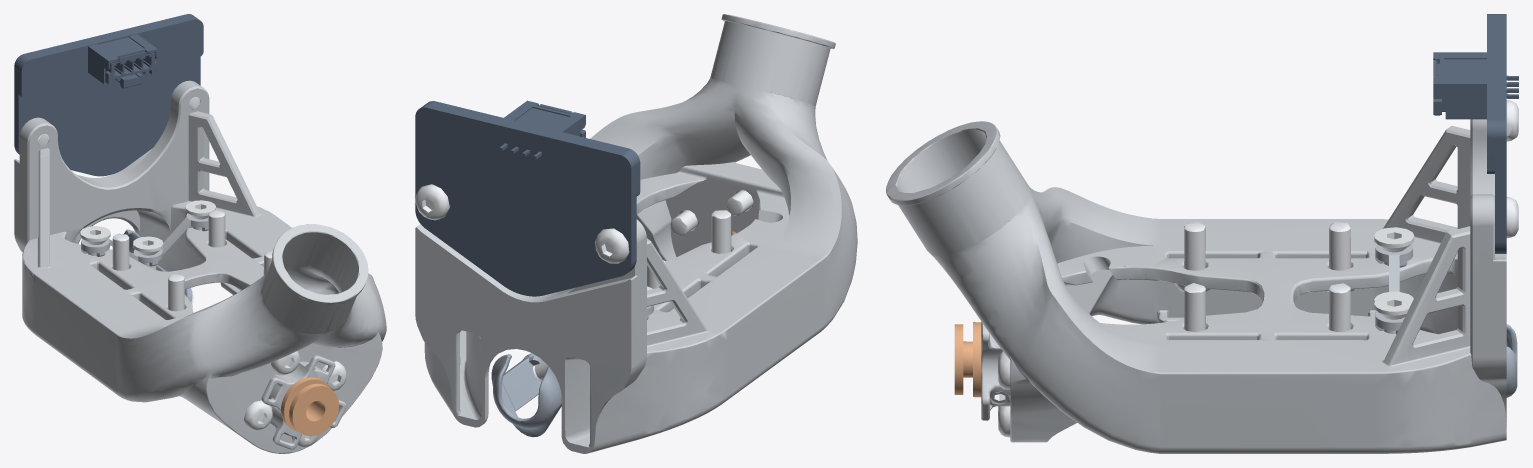
The picture shows the model from 3 angles, left to right: view 1: azimuth 30°, elevation 25°; view 2: azimuth 150°, elevation 25°; view 3: azimuth 270°, elevation 25°; orthographic projection. The views are drawn at different scales.
Parts seen in each view (by area): view 1: mbt_slm_chassis, beacon_probe, ecas_fitting, hotend_brace, fastener_16, fastener_7, fastener_6, fastener_5, fastener_11, fastener_13, fastener_12, fastener_15 (+1 smaller); view 2: mbt_slm_chassis, beacon_probe, mbt_shield, fastener_2, fastener_3, fastener_5, fastener_18, fastener_15; view 3: mbt_slm_chassis, beacon_probe, ecas_fitting, hotend_brace, fastener_5, fastener_7, fastener_6, fastener_4, fastener_13, fastener_12, mbt_shield.
Boxes of the visible parts, <box> form: mbt_slm_chassis: <box>14,80,386,453</box>; beacon_probe: <box>14,14,203,176</box>; ecas_fitting: <box>281,377,338,436</box>; hotend_brace: <box>81,213,208,266</box>; fastener_16: <box>244,400,272,430</box>; fastener_7: <box>112,233,129,270</box>; fastener_6: <box>208,210,225,247</box>; fastener_5: <box>168,274,184,311</box>; fastener_11: <box>133,236,163,269</box>; fastener_13: <box>80,226,110,255</box>; fastener_12: <box>185,200,215,230</box>; fastener_15: <box>271,351,299,374</box>; mbt_slm_chassis: <box>415,14,857,453</box>; beacon_probe: <box>415,100,640,296</box>; mbt_shield: <box>491,353,561,437</box>; fastener_2: <box>415,184,449,220</box>; fastener_3: <box>595,228,629,263</box>; fastener_5: <box>711,210,731,253</box>; fastener_18: <box>670,210,697,235</box>; fastener_15: <box>726,190,753,215</box>; mbt_slm_chassis: <box>886,119,1506,453</box>; beacon_probe: <box>1433,14,1518,253</box>; ecas_fitting: <box>954,322,981,397</box>; hotend_brace: <box>1375,244,1412,334</box>; fastener_5: <box>1175,221,1210,291</box>; fastener_7: <box>1327,222,1355,291</box>; fastener_6: <box>1329,283,1350,331</box>; fastener_4: <box>1184,283,1205,331</box>; fastener_13: <box>1374,227,1414,265</box>; fastener_12: <box>1374,295,1412,333</box>; mbt_shield: <box>1506,324,1517,397</box>.
Bounding box in the file's own units: 0.0508 × 0.0559 × 0.0873.
